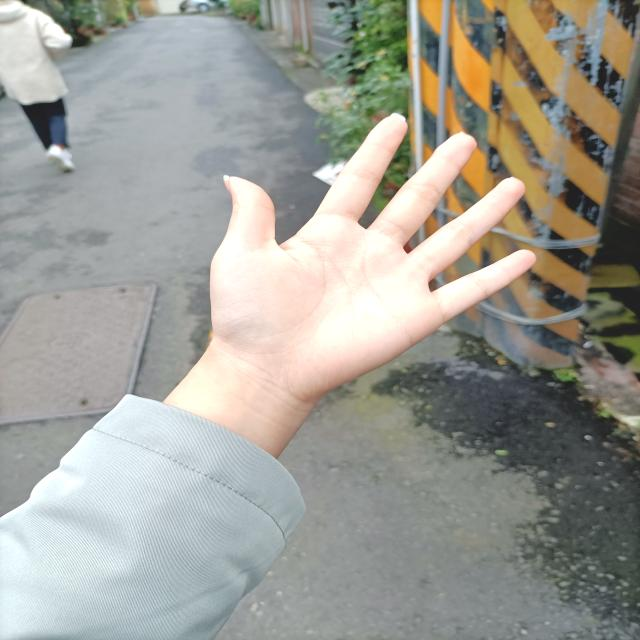no_glove: (196, 101, 549, 413)
